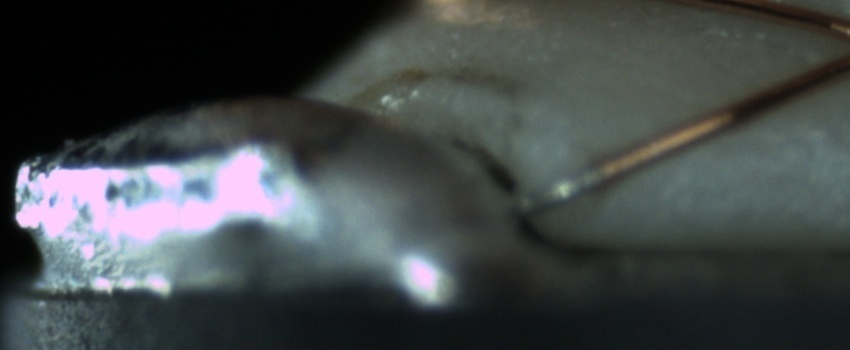TS: (516, 163, 606, 217)
TTCW: (513, 151, 621, 217)
